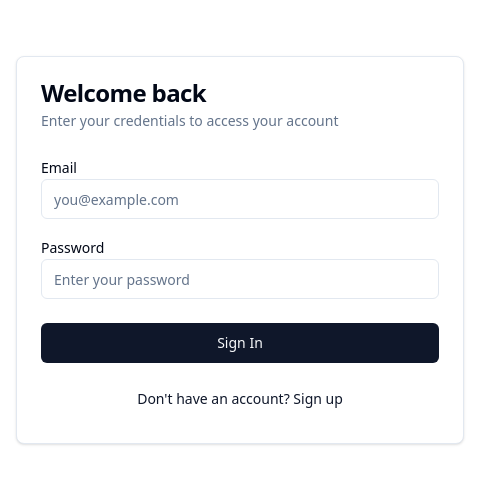
LoginPage › toggles to registration form
Click the button "Don't have an account? Sign up" at coordinates (240, 399), box [121,379,359,419]
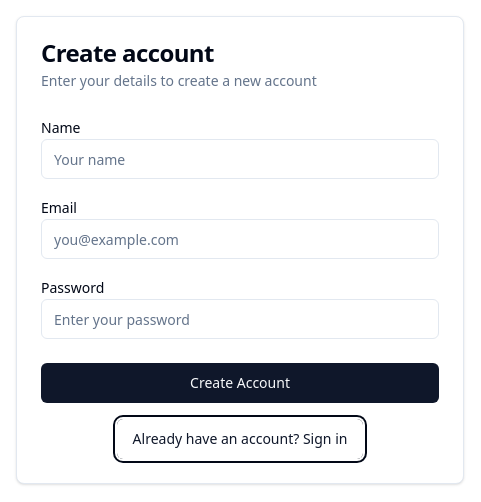
Result: the heading "Create account" is shown at [41,36,214,69]
Result: the field labelled "Name" is shown at [41,139,439,179]
Result: the button "Create Account" is shown at [41,363,439,403]
